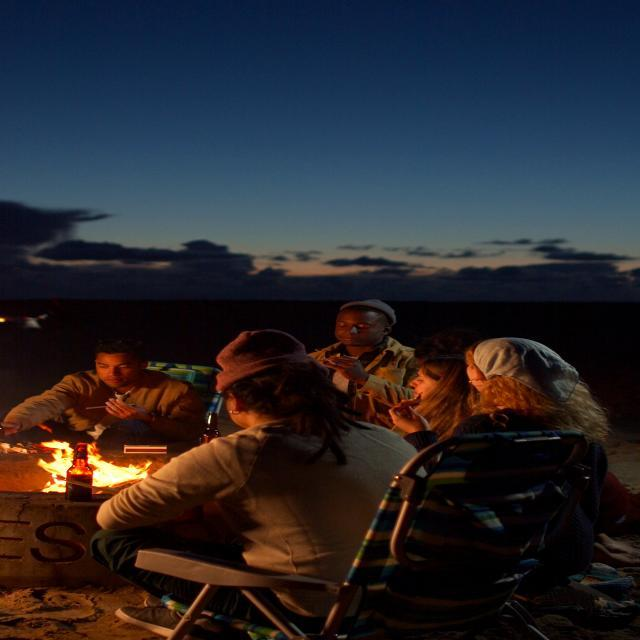Fire: (46, 436, 136, 489)
